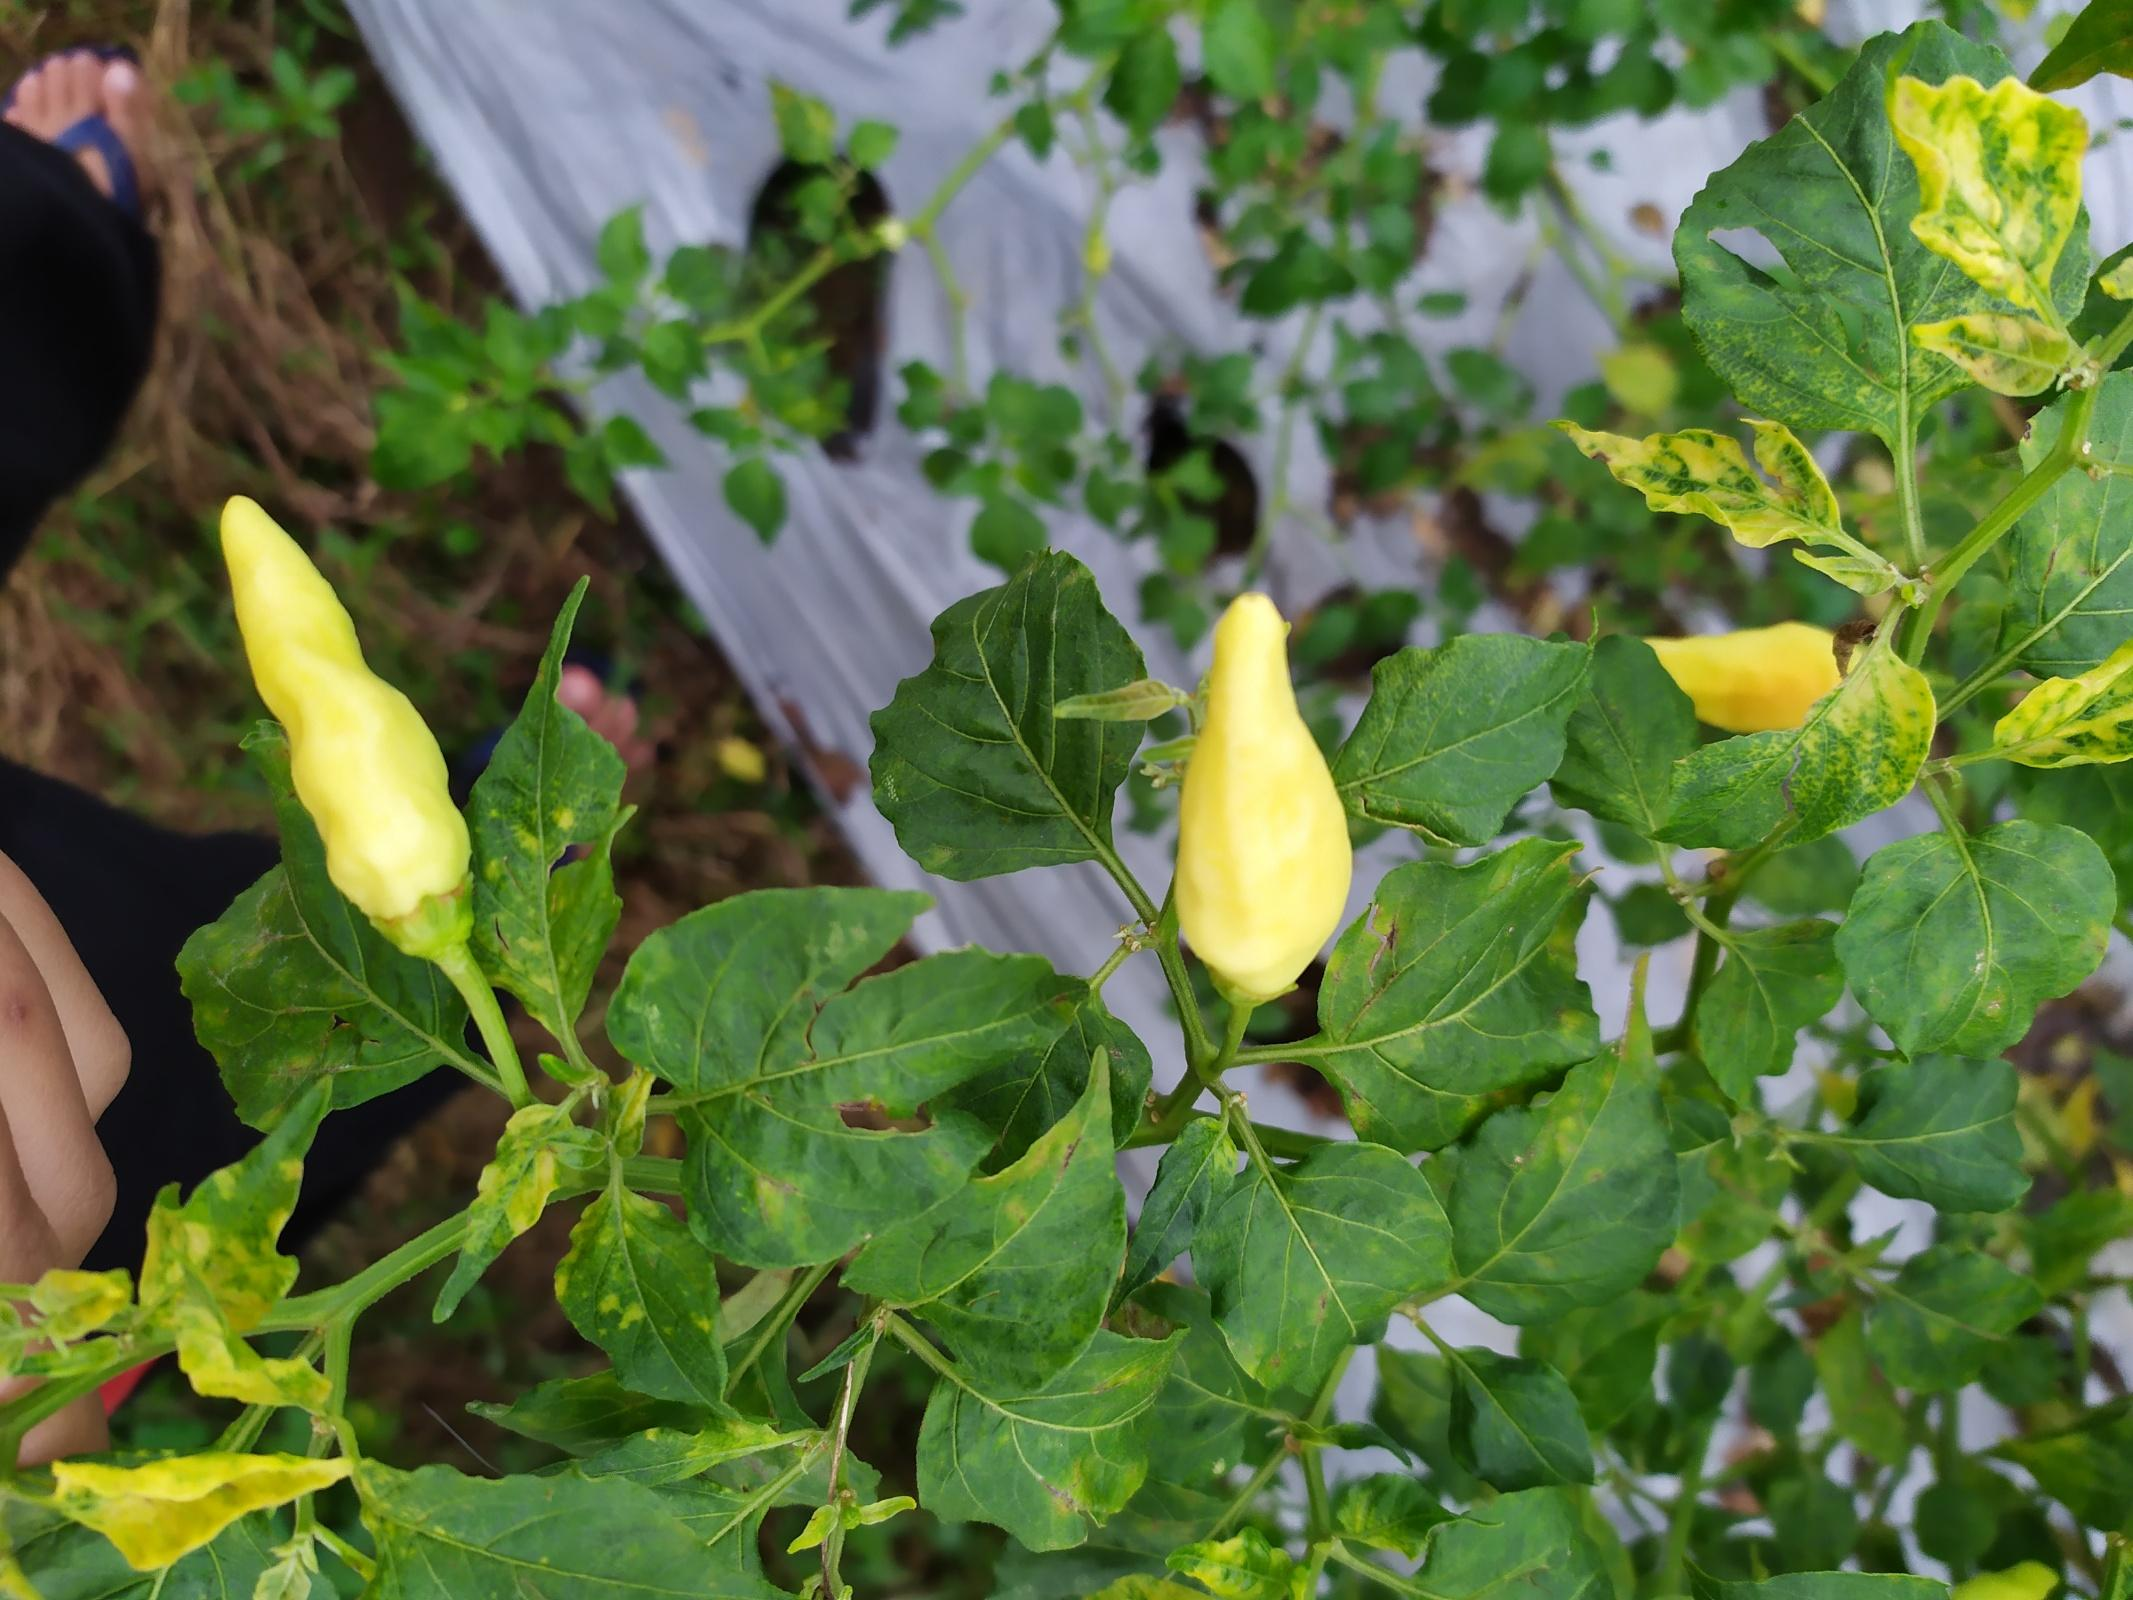cabai_normal: (219, 492, 477, 941), (1168, 590, 1353, 1007), (1647, 617, 1871, 731)
